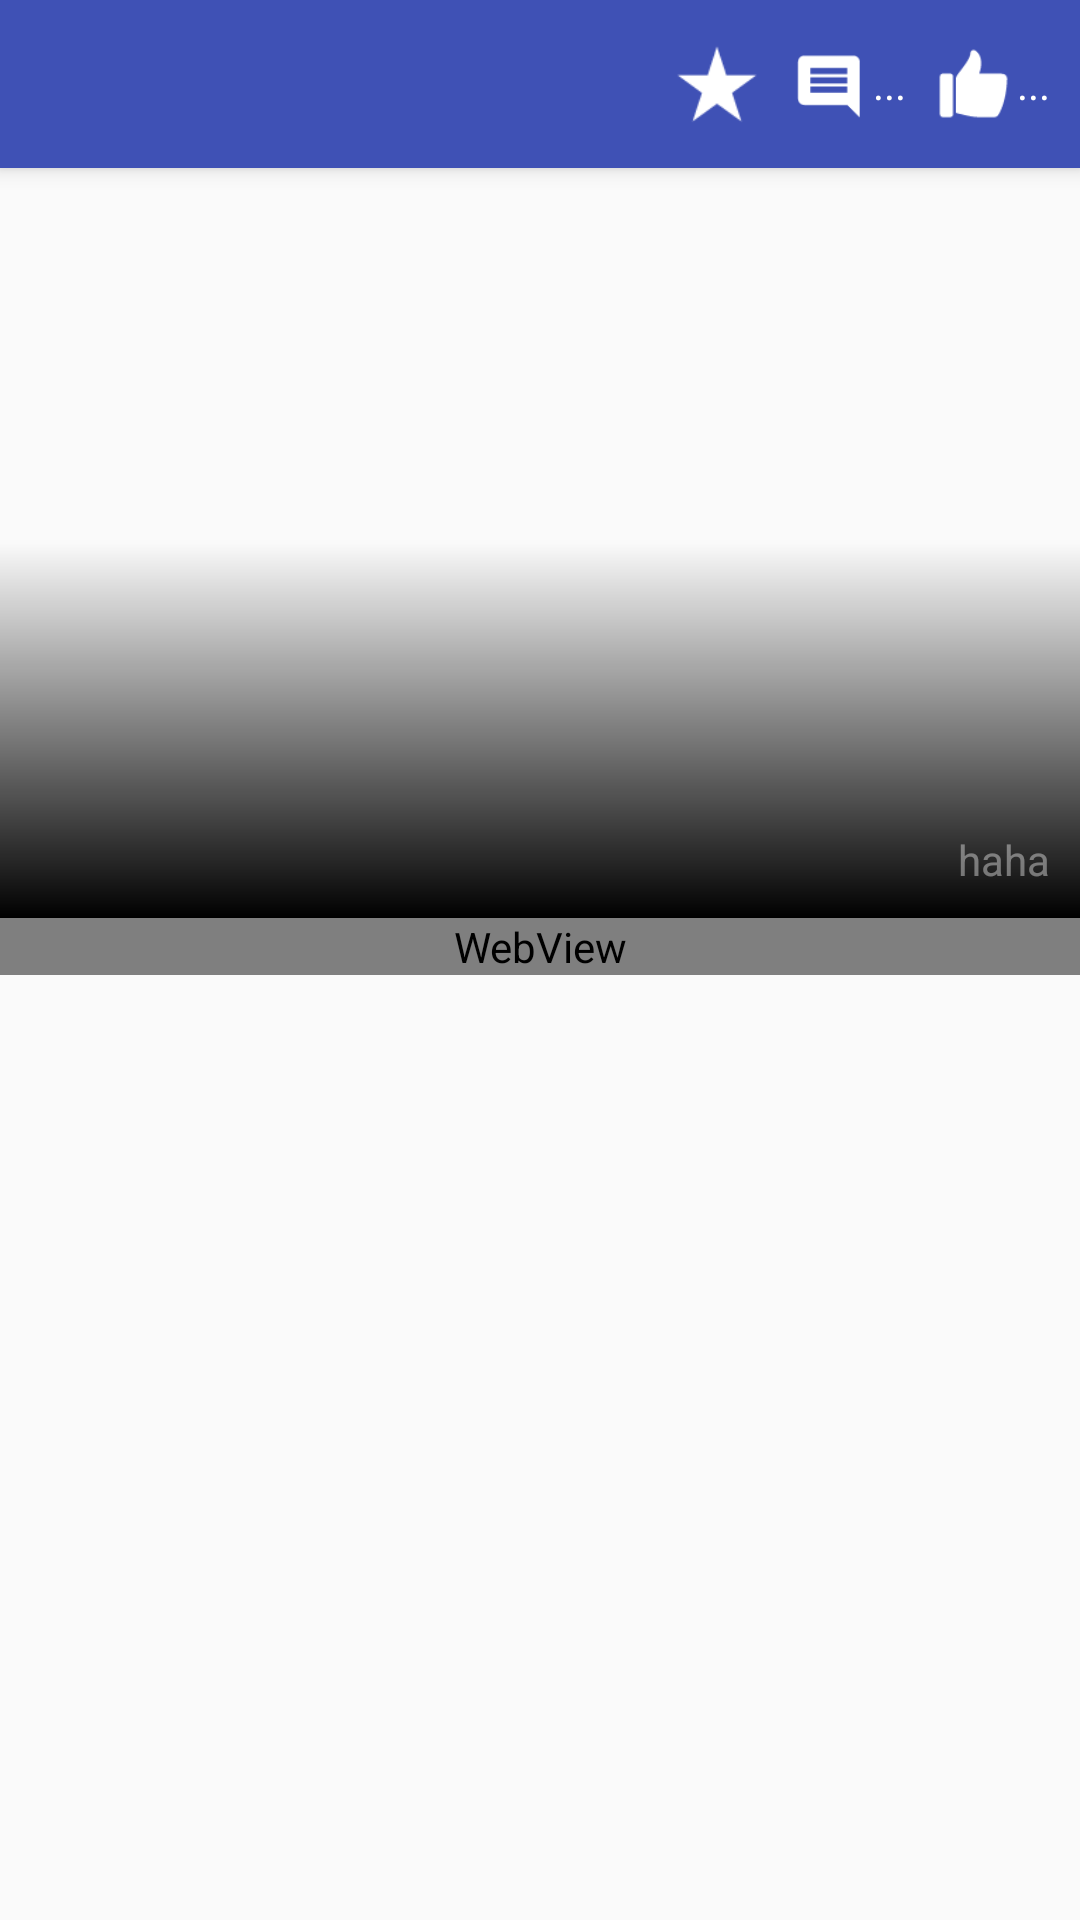

Where icons sit on this 1080×1920 app screen, as box=[x1, y1, x2, y2]:
comment: box=[797, 55, 860, 117]
star: box=[678, 47, 756, 121]
thumb: box=[939, 49, 1008, 118]
